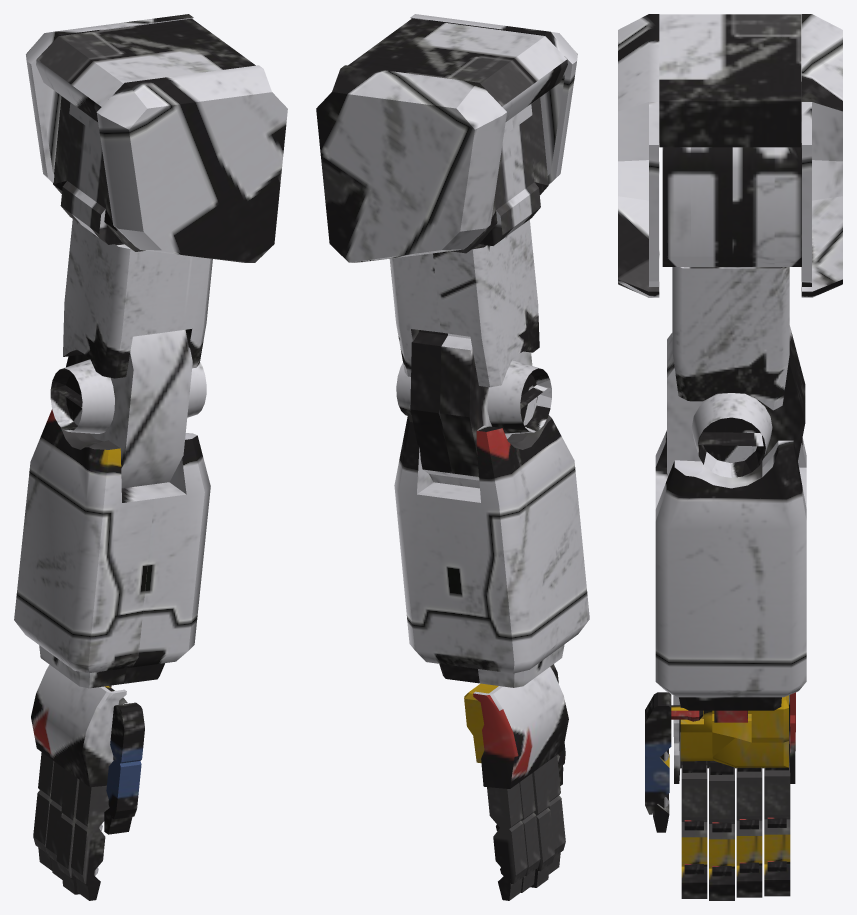
File: handa.obj
The picture shows the model from 3 angles, left to right: view 1: azimuth 30°, elevation 25°; view 2: azimuth 150°, elevation 25°; view 3: azimuth 270°, elevation 25°; orthographic projection. The views are drawn at different scales.
Parts seen in each view (by area): view 1: Gundam:polySurface666; view 2: Gundam:polySurface666; view 3: Gundam:polySurface666.
Boxes of the visible parts, x1,y1,x2,y2 form: Gundam:polySurface666: (14, 14, 287, 900); Gundam:polySurface666: (316, 14, 589, 900); Gundam:polySurface666: (618, 14, 842, 900).
Bounding box in the file's own units: 3.03 × 12.02 × 2.73.
Materials: 1 (1 with a texture image).
